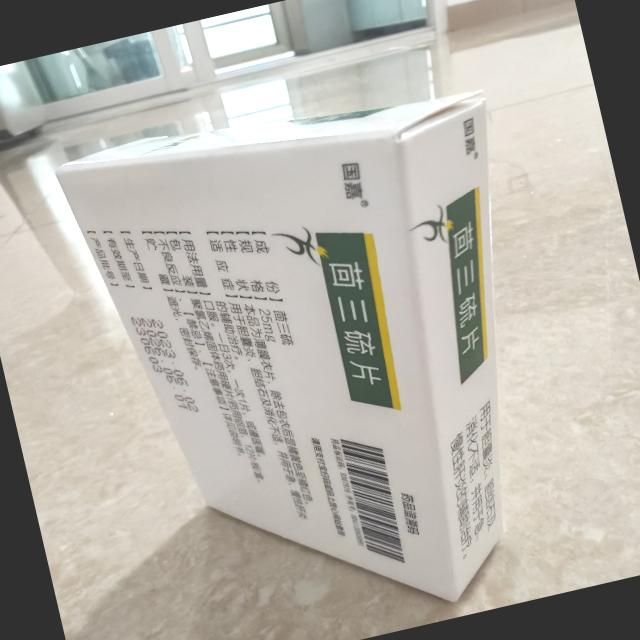box: (41, 49, 604, 640)
